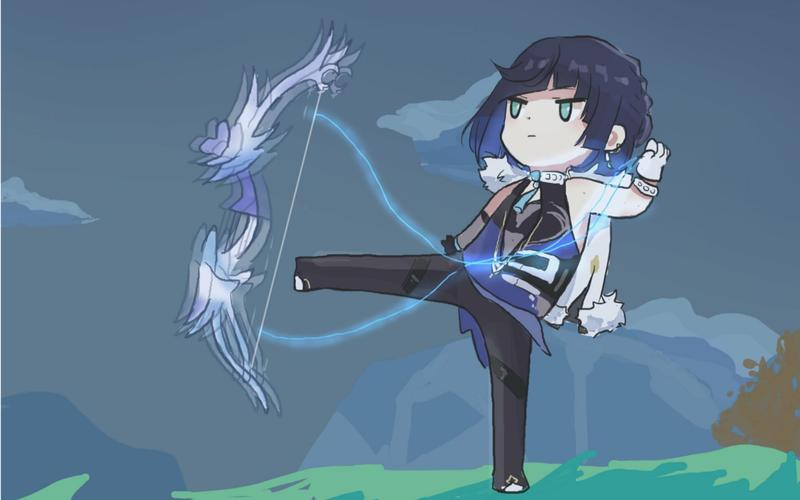夜兰: (278, 35, 674, 493)
